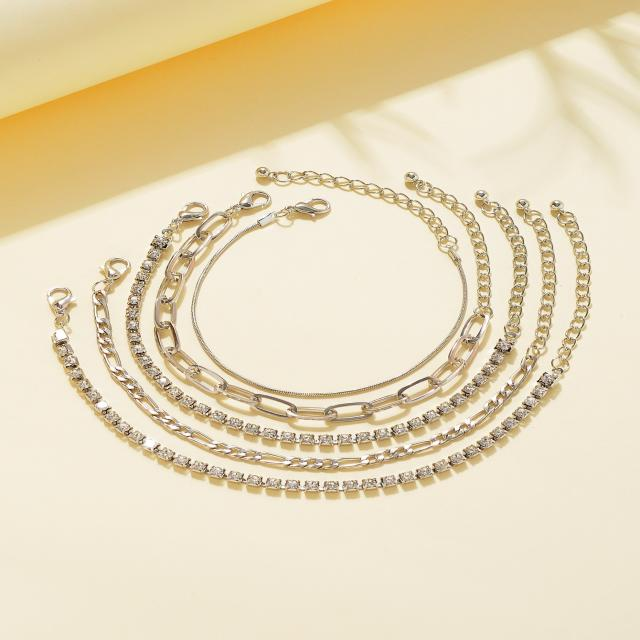bracelet: (30, 79, 640, 570)
